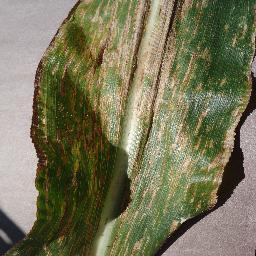Gray_Leaf_Spot: (35, 1, 118, 85), (0, 181, 90, 256), (32, 86, 100, 181), (134, 101, 188, 169), (120, 171, 172, 226), (169, 169, 225, 219), (141, 46, 186, 101), (155, 0, 207, 45), (110, 227, 163, 256), (117, 0, 127, 105), (100, 87, 114, 157), (128, 0, 138, 81), (211, 140, 234, 167), (183, 148, 213, 167), (90, 181, 100, 237), (188, 44, 213, 64), (113, 87, 120, 149), (161, 214, 184, 231), (246, 4, 256, 43), (185, 65, 204, 85), (242, 79, 255, 106), (246, 44, 256, 78), (231, 24, 245, 48), (99, 161, 107, 202), (136, 0, 144, 39), (231, 107, 249, 124), (189, 137, 213, 148), (223, 127, 240, 142), (219, 75, 230, 93), (198, 99, 210, 115), (194, 118, 202, 135), (222, 21, 232, 34), (145, 0, 152, 18), (195, 85, 204, 96), (108, 160, 113, 175), (206, 125, 212, 134), (85, 219, 86, 223)
